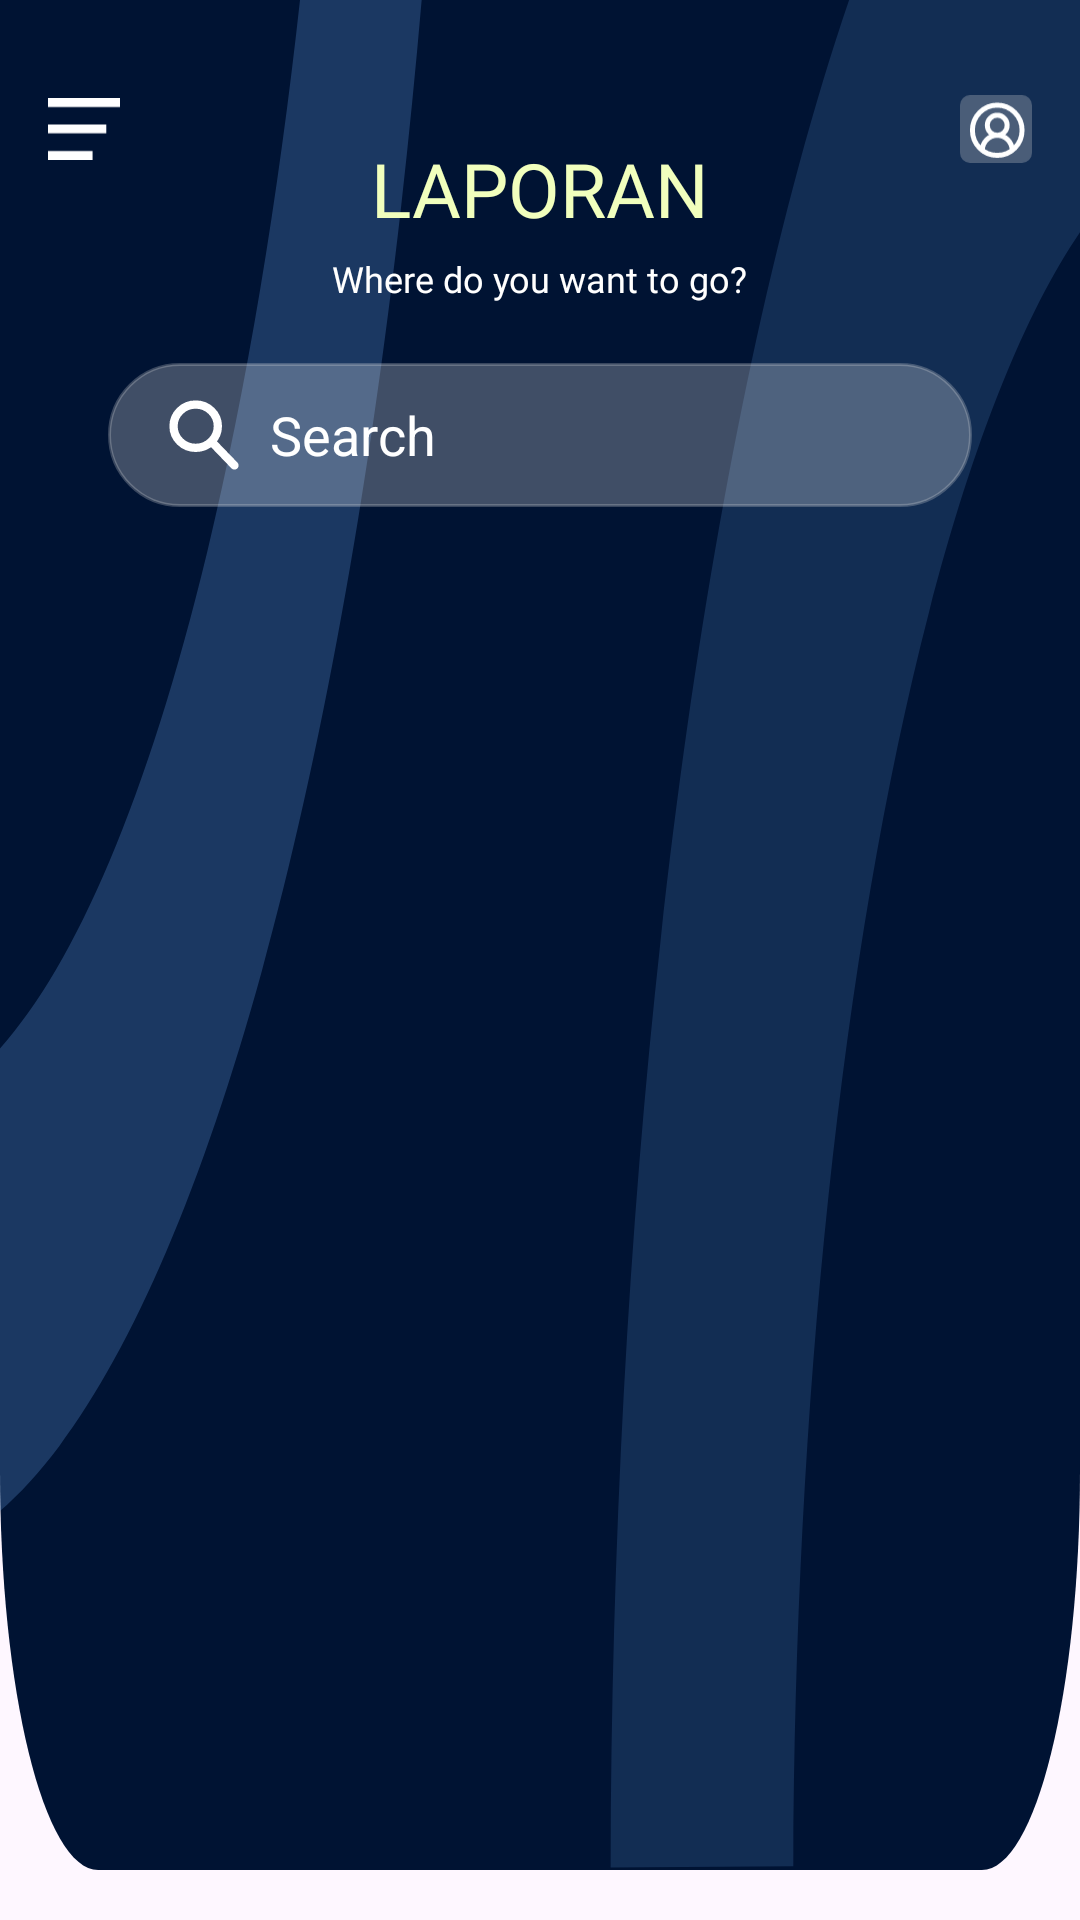

Named icons in this screenshot (1080 × 1920) and their bounding boxes, {"x1": x1, "y1": y1, "x2": x2, "y2": y2}:
menu: {"x1": 48, "y1": 98, "x2": 120, "y2": 160}
profil: {"x1": 960, "y1": 95, "x2": 1032, "y2": 163}
